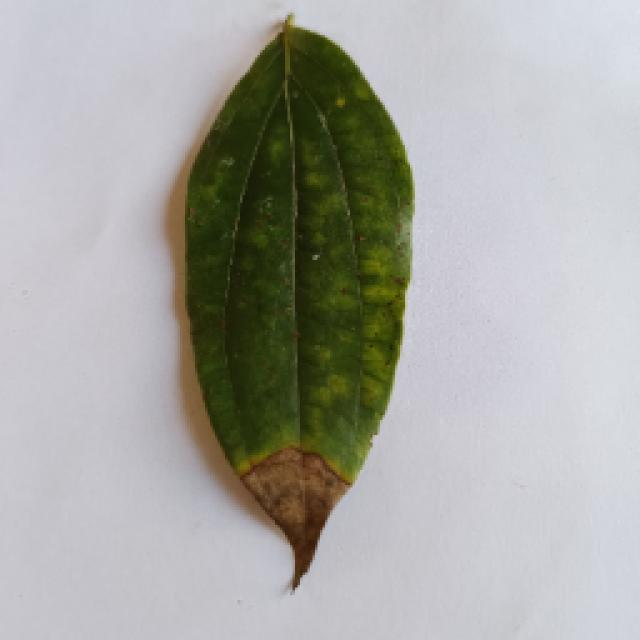footrot: (178, 18, 412, 592)
